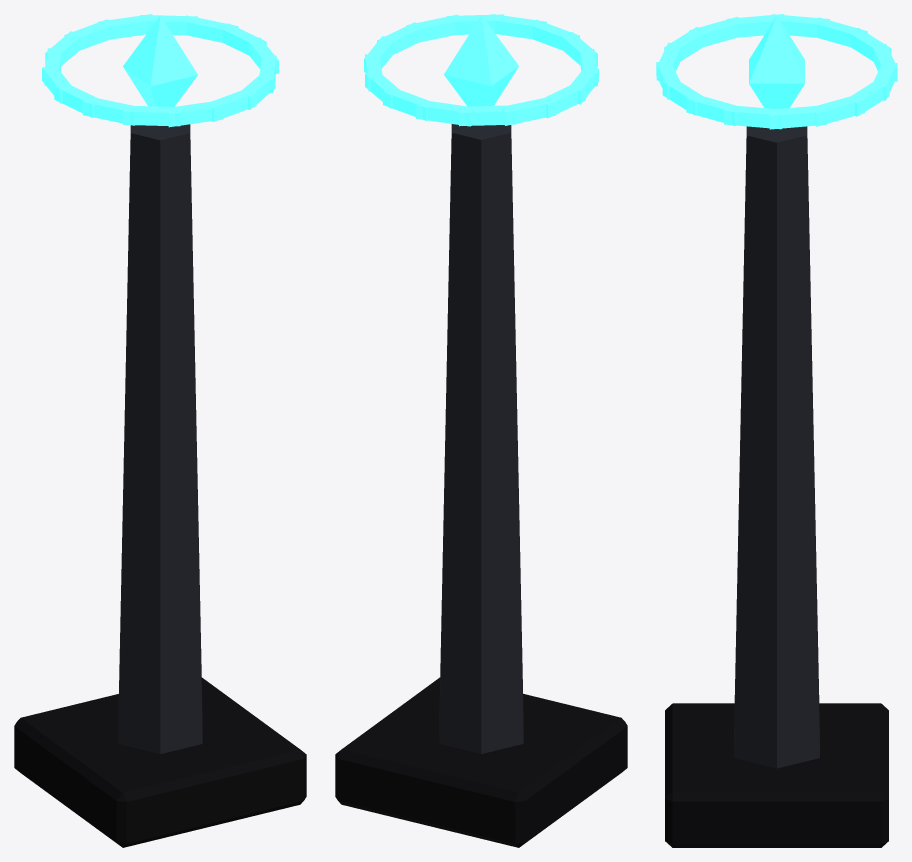
File: SM_Light_Beacon.glb
The picture shows the model from 3 angles, left to right: view 1: azimuth 30°, elevation 25°; view 2: azimuth 150°, elevation 25°; view 3: azimuth 270°, elevation 25°; orthographic projection.
Parts seen in each view (by area): view 1: SM_Light_Beacon; view 2: SM_Light_Beacon; view 3: SM_Light_Beacon.
Boxes of the visible parts, box(x1,y1,x2,y2) form: SM_Light_Beacon: box(14, 14, 306, 847); SM_Light_Beacon: box(335, 14, 627, 847); SM_Light_Beacon: box(656, 14, 897, 847).
Bounding box in the file's own units: 0.9717 × 3.5 × 0.9717.
Materials: 1 (1 with a texture image).
